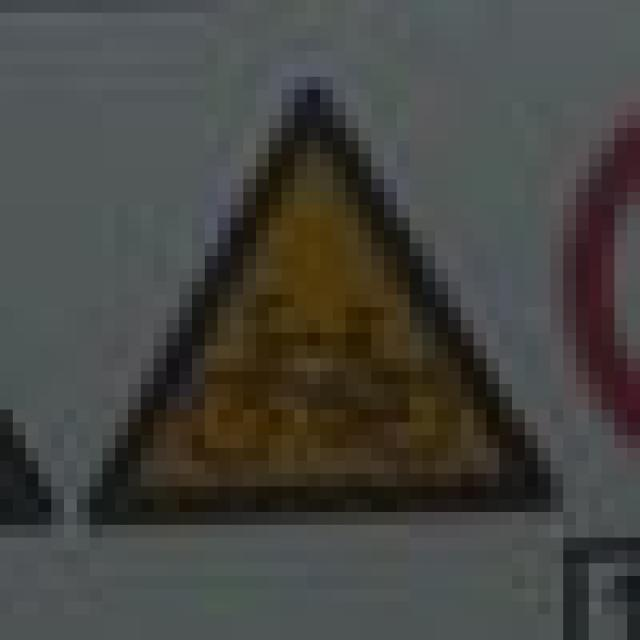cycle_crossing: (77, 64, 550, 512)
